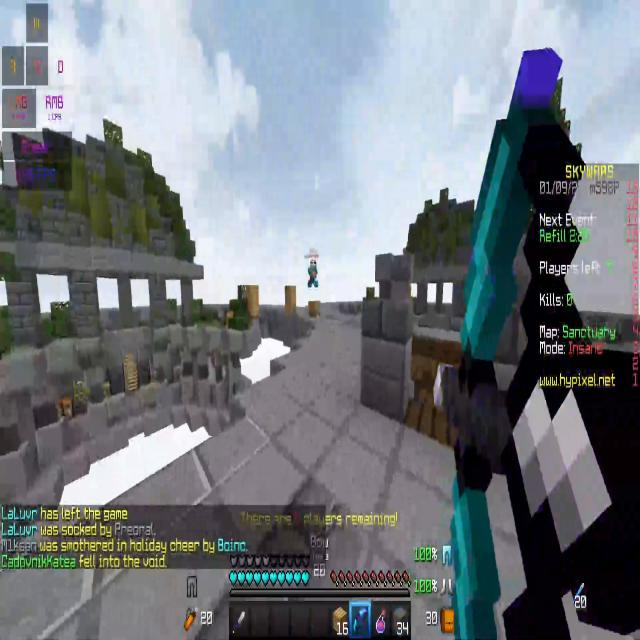Player: (300, 244, 323, 298)
